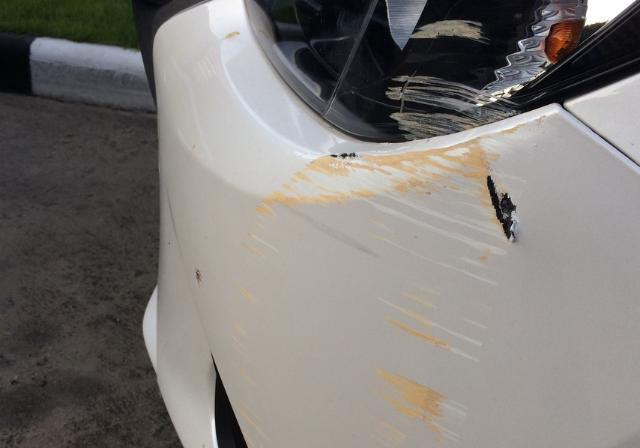Bumper: (233, 123, 626, 447)
Light: (228, 0, 640, 122)
